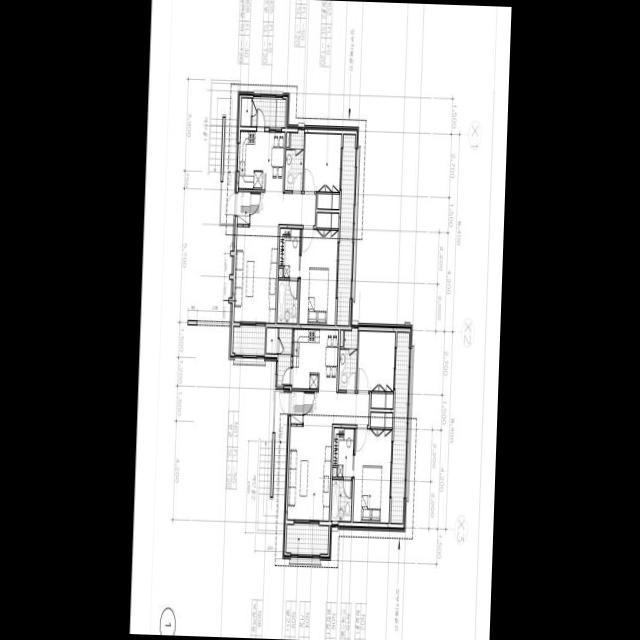background: (129, 0, 511, 640)
space_balconi: (336, 134, 355, 325), (390, 332, 408, 523), (286, 524, 328, 553), (251, 98, 285, 127), (232, 326, 264, 355), (277, 328, 291, 385)
space_bedroom: (298, 213, 338, 324), (352, 412, 392, 522), (356, 331, 395, 408), (303, 133, 341, 209)
space_dressroom: (278, 228, 299, 277), (332, 428, 353, 477)
space_front: (218, 182, 235, 226), (272, 391, 288, 432), (236, 191, 249, 223), (290, 391, 303, 423)
space_kitchen: (291, 329, 338, 393), (238, 131, 284, 193)
space_living_room: (233, 192, 315, 322), (287, 392, 369, 520)
space_other: (240, 98, 251, 126), (266, 328, 277, 353), (339, 330, 343, 346), (286, 132, 289, 147), (278, 268, 282, 277), (332, 468, 336, 476)
space_staircase: (207, 79, 239, 182), (255, 431, 286, 534)
space_toilet: (276, 280, 298, 323), (330, 480, 351, 521), (284, 149, 303, 190), (338, 349, 356, 389), (343, 330, 357, 348), (290, 133, 303, 149)
